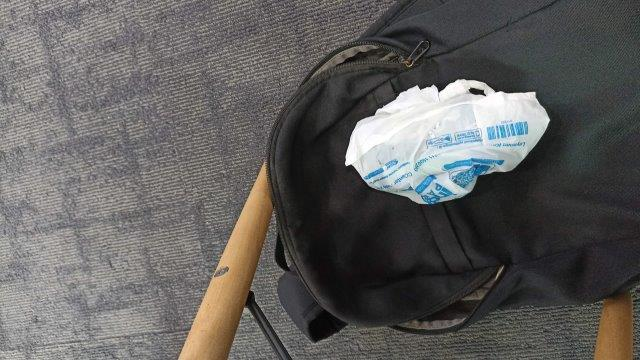plastik: (346, 80, 548, 203)
